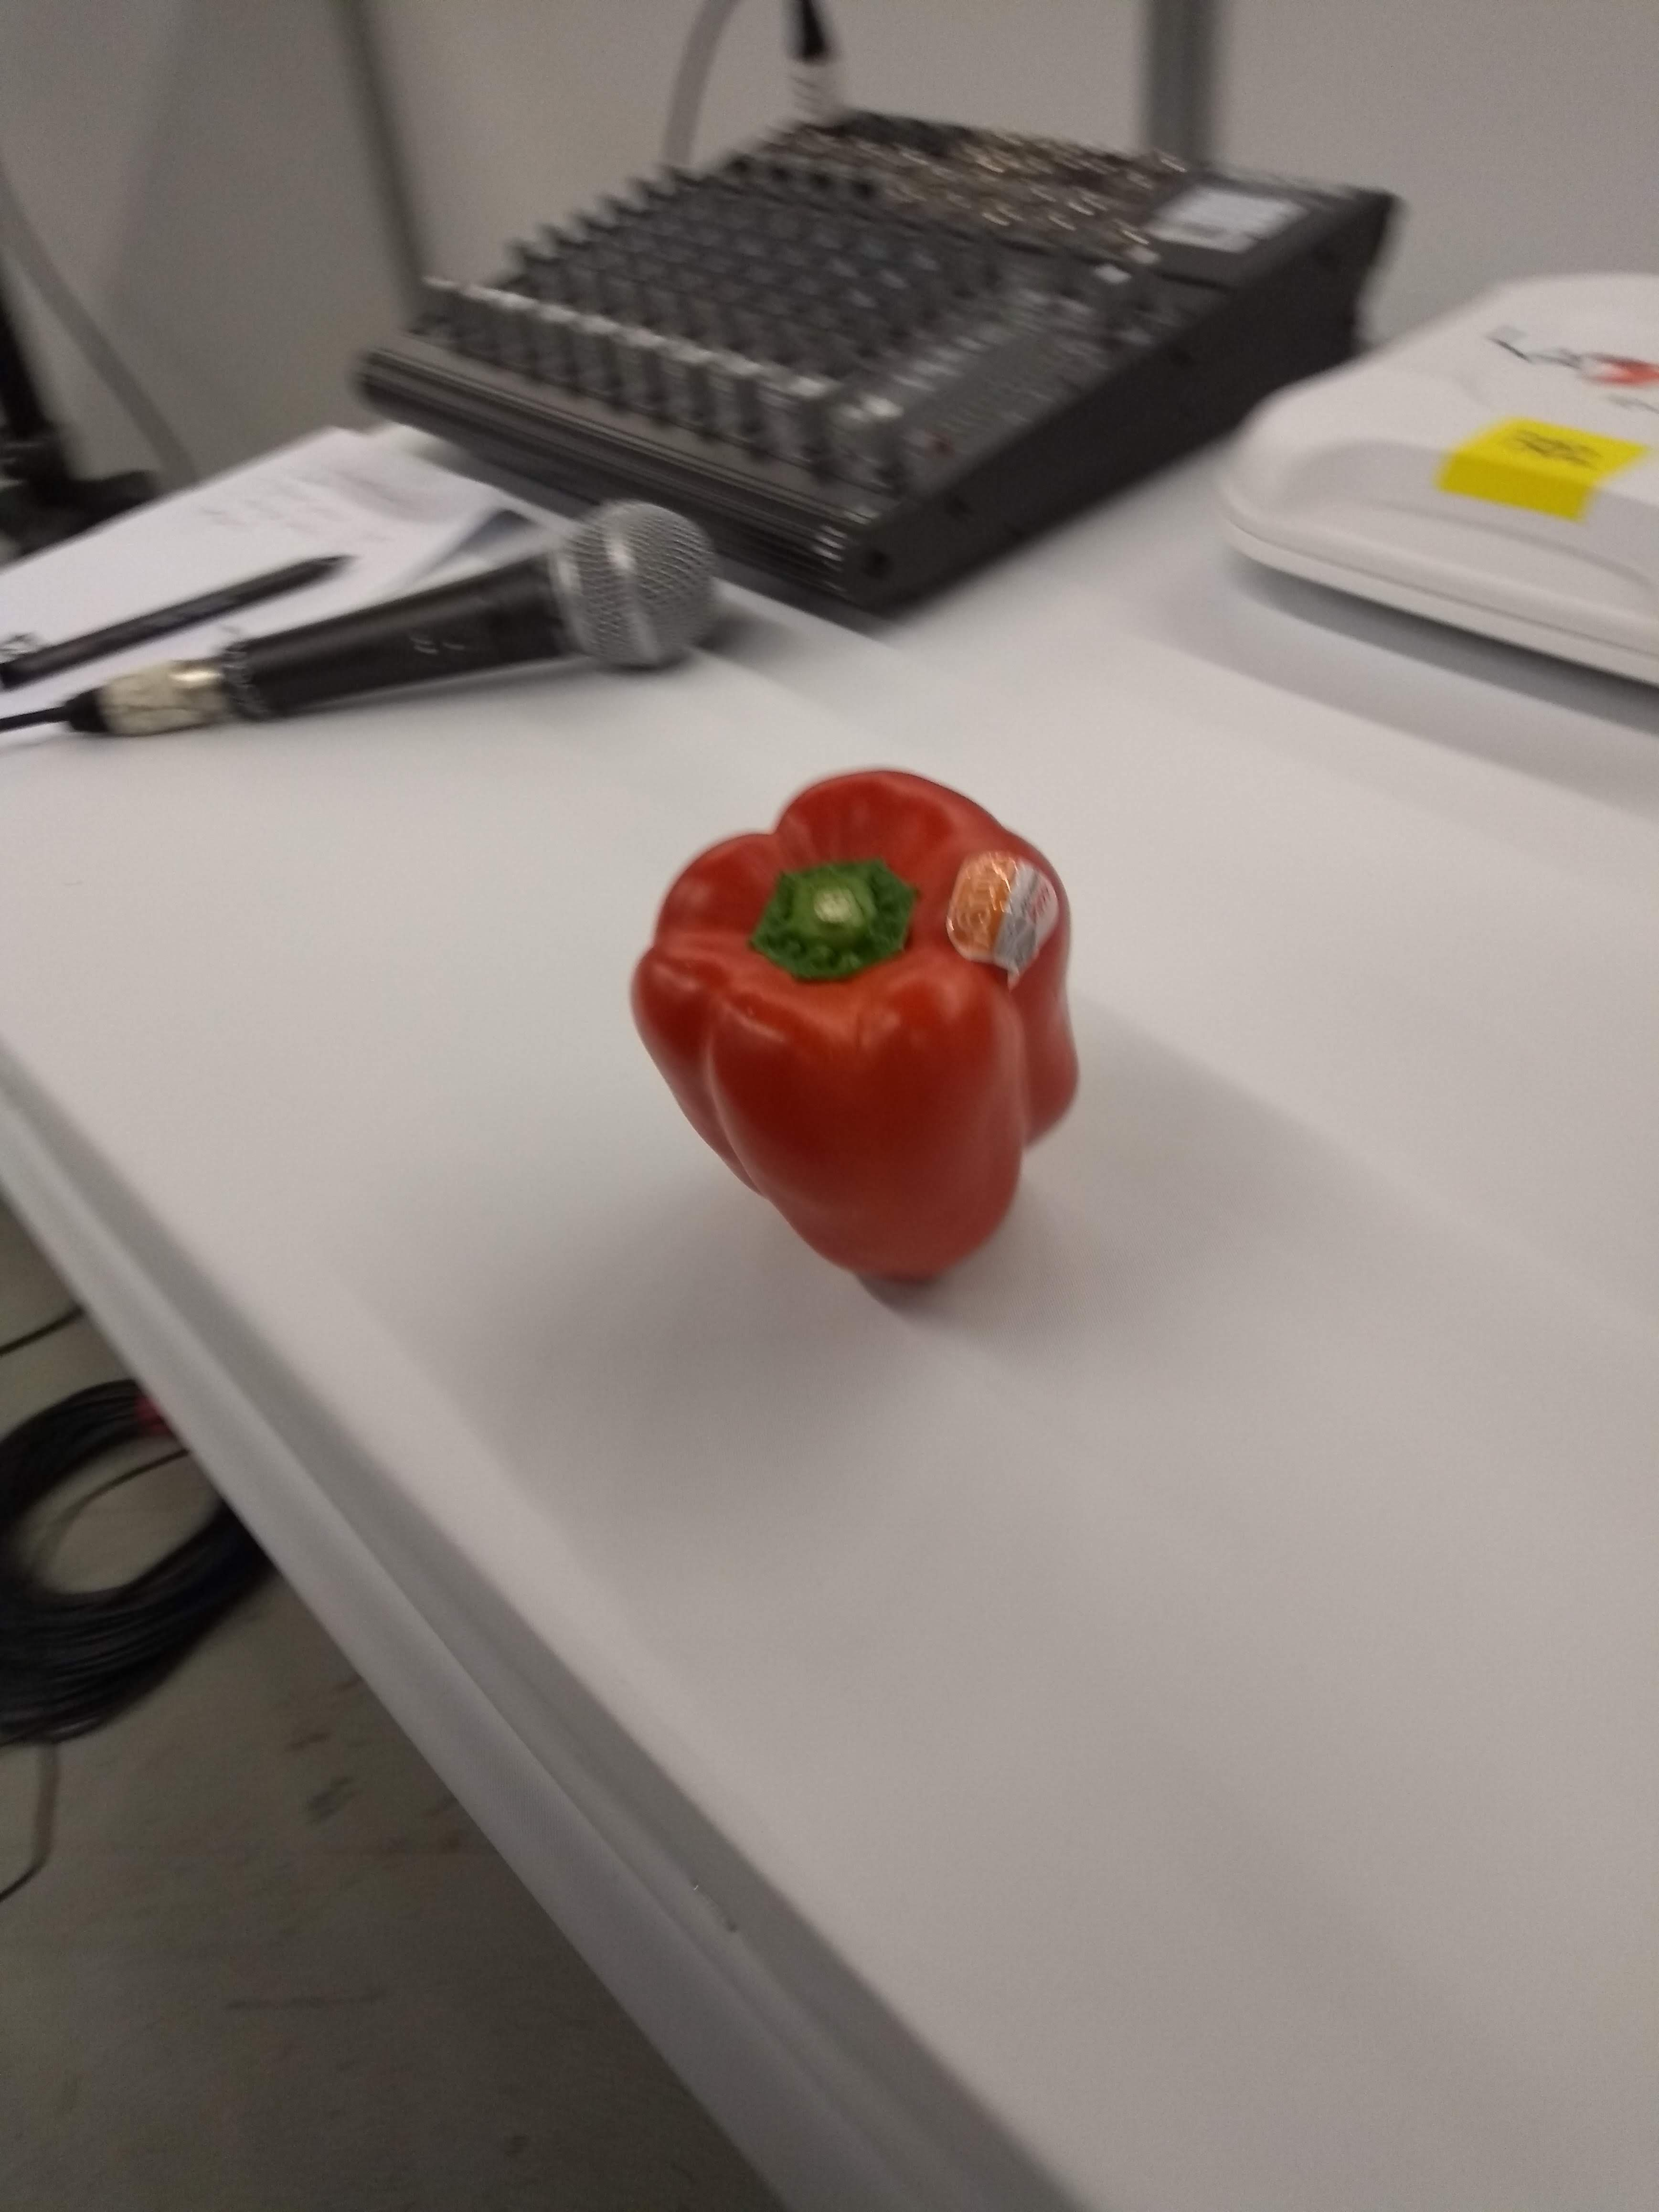paprika: (610, 759, 1107, 1296)
